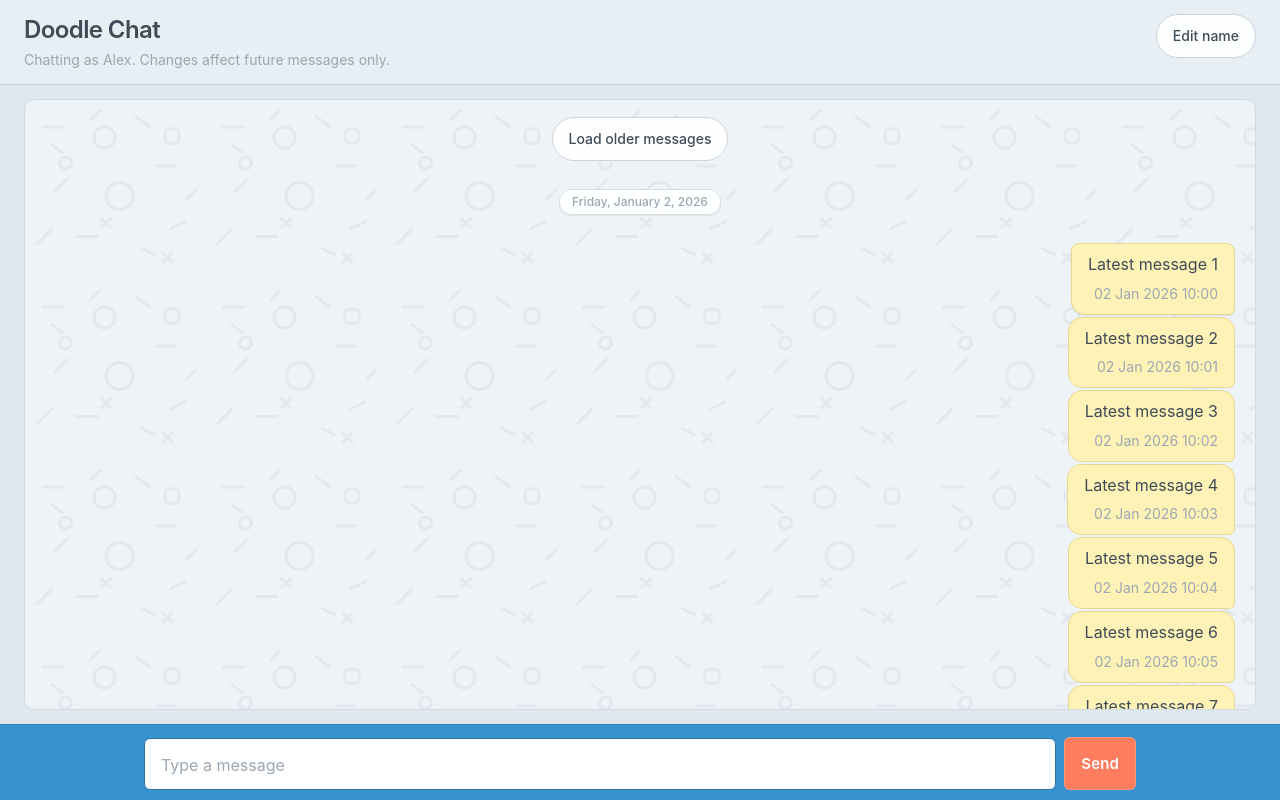
Test: ChatScreen optimistic composer integration › keeps timeline visible on older-load failure and offers retry action
expect the text "Latest message 1" is shown: met, box left=1088, top=254, right=1218, bottom=276
Click the button "Load older messages".
click(640, 139)  # box left=552, top=117, right=728, bottom=161
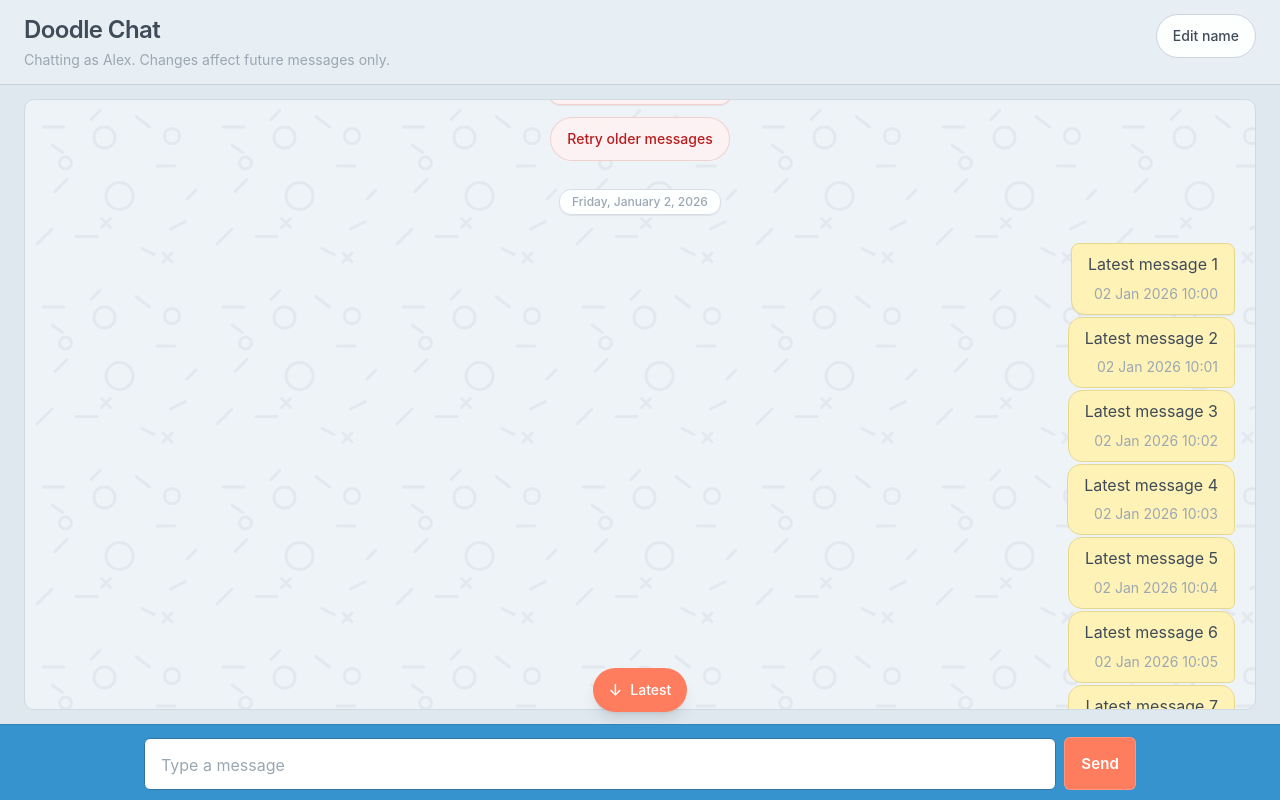
expect the text "Latest message 1" is shown: met, box left=1088, top=254, right=1218, bottom=276
expect the button "Retry older messages" is shown: met
Click the button "Retry older messages".
click(640, 139)  # box left=550, top=117, right=730, bottom=161
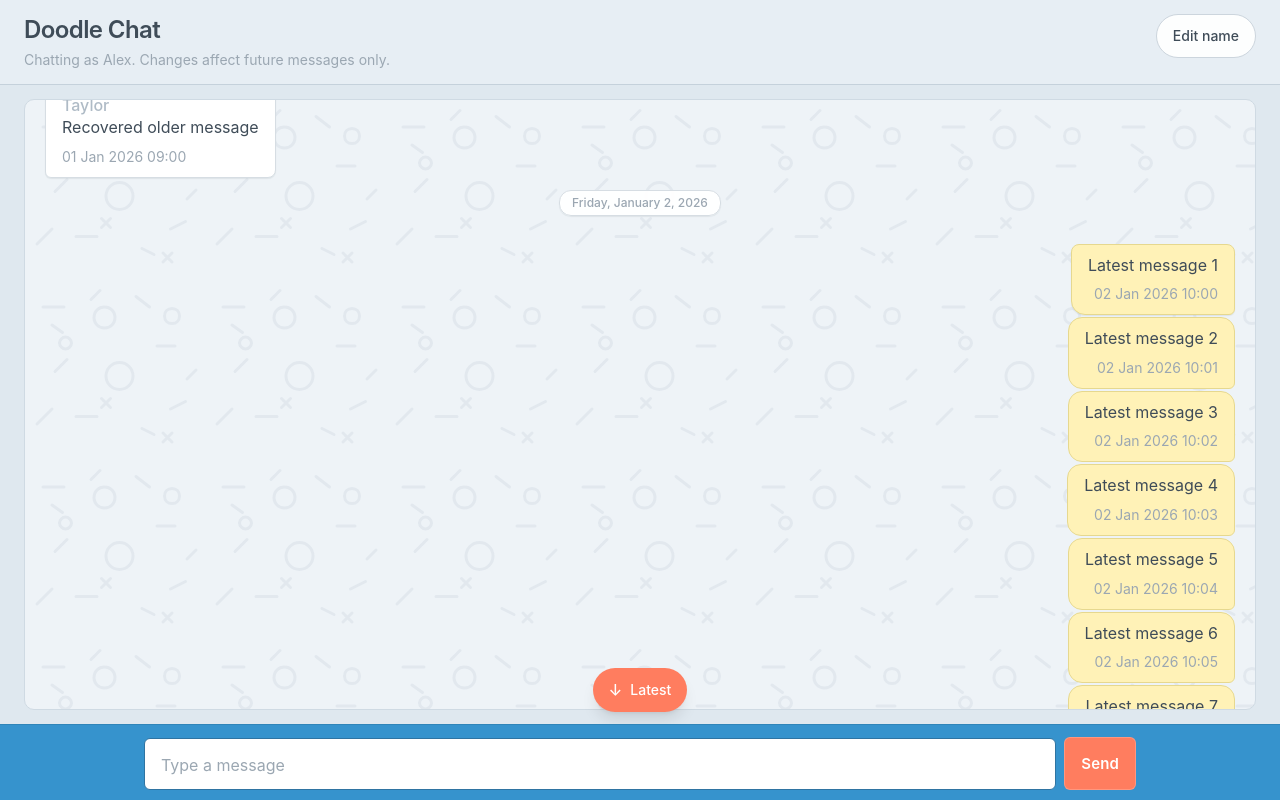
expect the text "Recovered older message" is shown: met, box left=62, top=117, right=259, bottom=139
